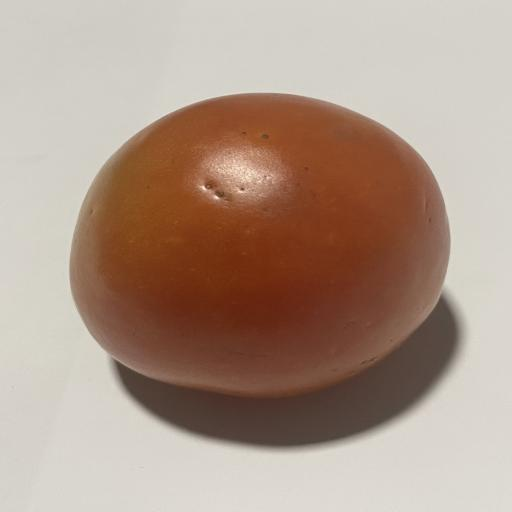unripe: (70, 94, 449, 396)
